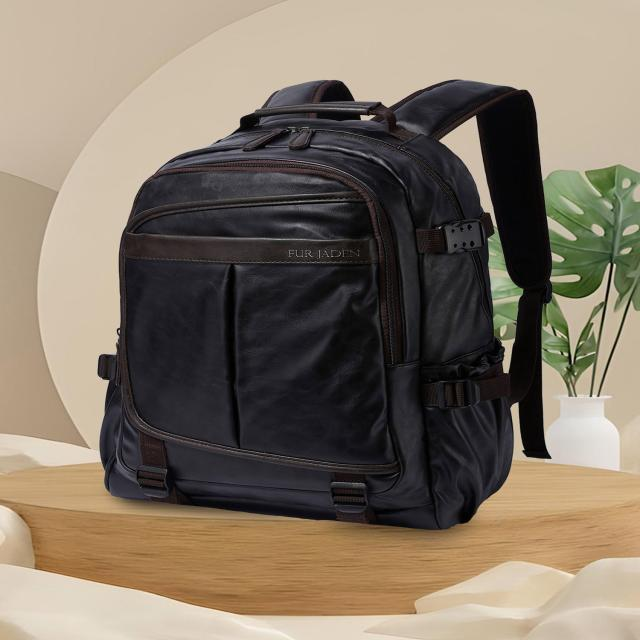backpack: (98, 78, 553, 531)
